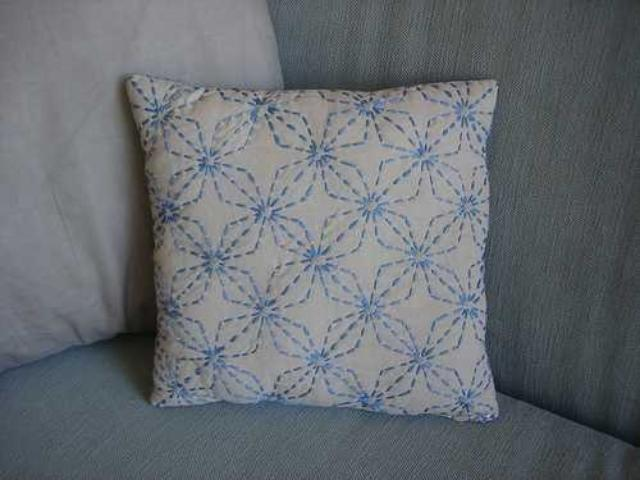pillow: (123, 70, 500, 422), (0, 0, 284, 376)
